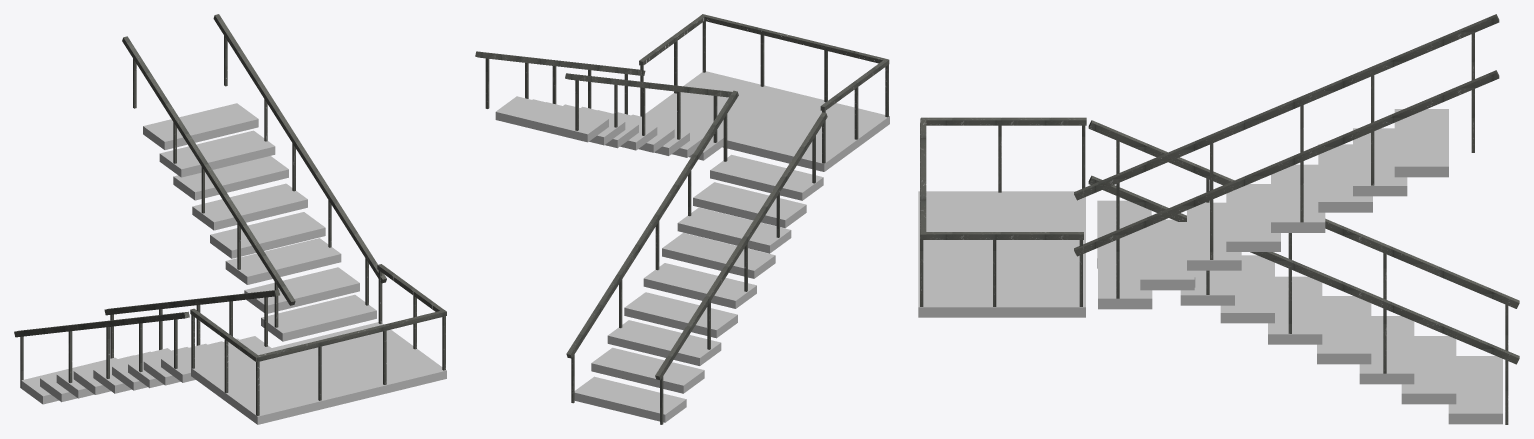
File: escalera.obj
3 renders of one model, left to right at view 1: azimuth 30°, elevation 25°; view 2: azimuth 150°, elevation 25°; view 3: azimuth 270°, elevation 25°, orthographic. The views are drawn at different scales.
Visible parts, largest first — view 1: pCube129; view 2: pCube129; view 3: pCube129.
Part boxes in pixels (x1=…): pCube129: x1=14, y1=14, x2=446, y2=424; pCube129: x1=475, y1=14, x2=889, y2=424; pCube129: x1=918, y1=14, x2=1519, y2=424.
Size of the model in its own units: 10.75 by 17.31 by 22.77.
